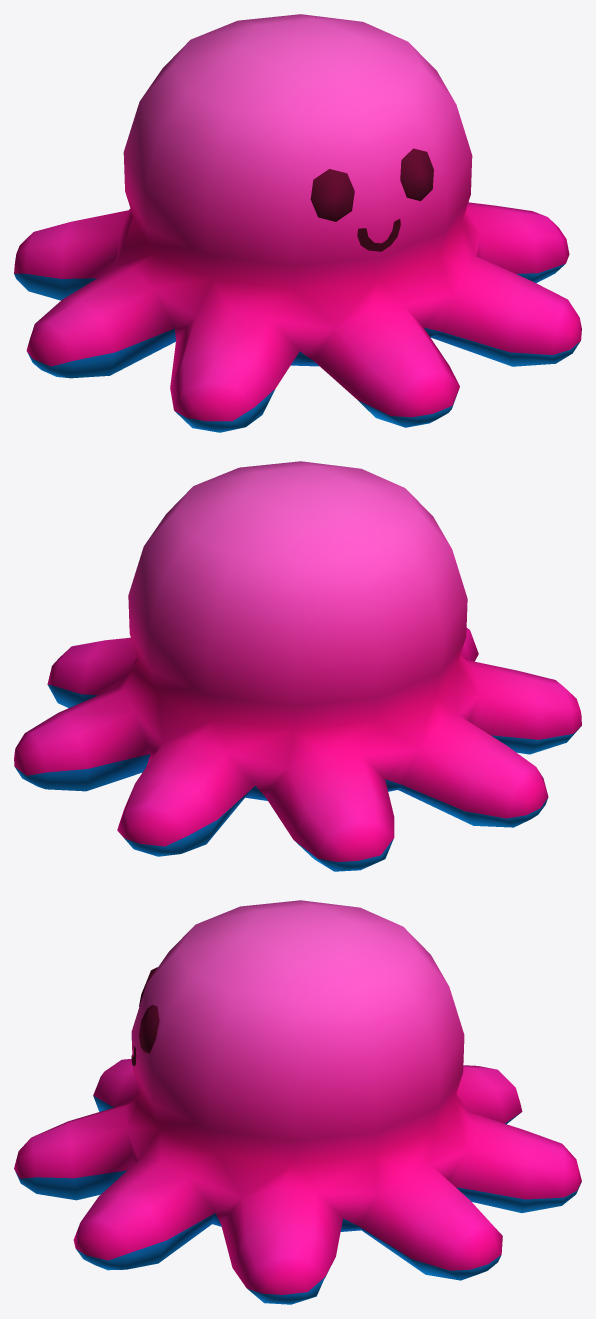
File: octopusCheerful.fbx
The picture shows the model from 3 angles, top to bottom: view 1: azimuth 30°, elevation 25°; view 2: azimuth 150°, elevation 25°; view 3: azimuth 270°, elevation 25°; orthographic projection. The views are drawn at different scales.
Parts seen in each view (by area): view 1: octopusCheerful; view 2: octopusCheerful; view 3: octopusCheerful.
Part boxes in pixels (x1,y1,x2,y2): octopusCheerful: (14, 14, 581, 432); octopusCheerful: (14, 461, 581, 871); octopusCheerful: (14, 900, 581, 1304).
Size of the model in its own units: 21.28 by 11.35 by 21.28.
